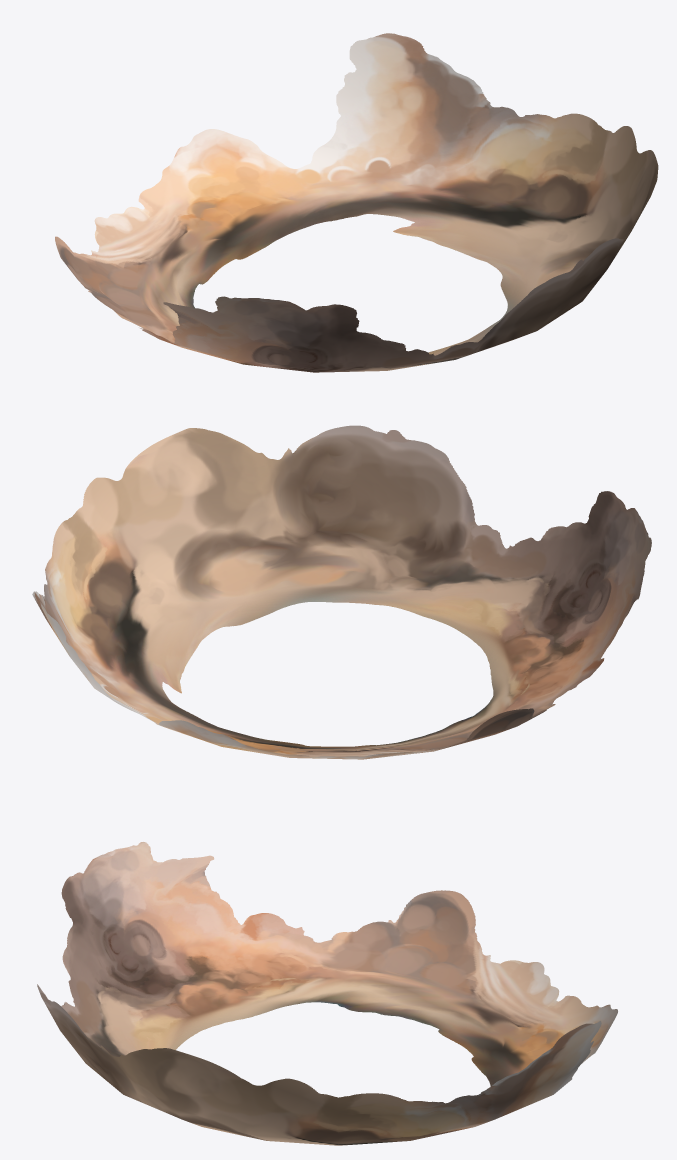
Rendered from Sky_Underdome.fbx.
The picture shows the model from 3 angles, top to bottom: view 1: azimuth 30°, elevation 25°; view 2: azimuth 150°, elevation 25°; view 3: azimuth 270°, elevation 25°; orthographic projection.
Parts seen in each view (by area): view 1: pSphere1; view 2: pSphere1; view 3: pSphere1.
Part boxes in pixels (bbox=[...]): pSphere1: bbox=[55, 33, 658, 372]; pSphere1: bbox=[32, 425, 651, 759]; pSphere1: bbox=[37, 842, 617, 1145].
Size of the model in its own units: 1.98 by 0.5648 by 1.98.
1 material, 1 textured.
